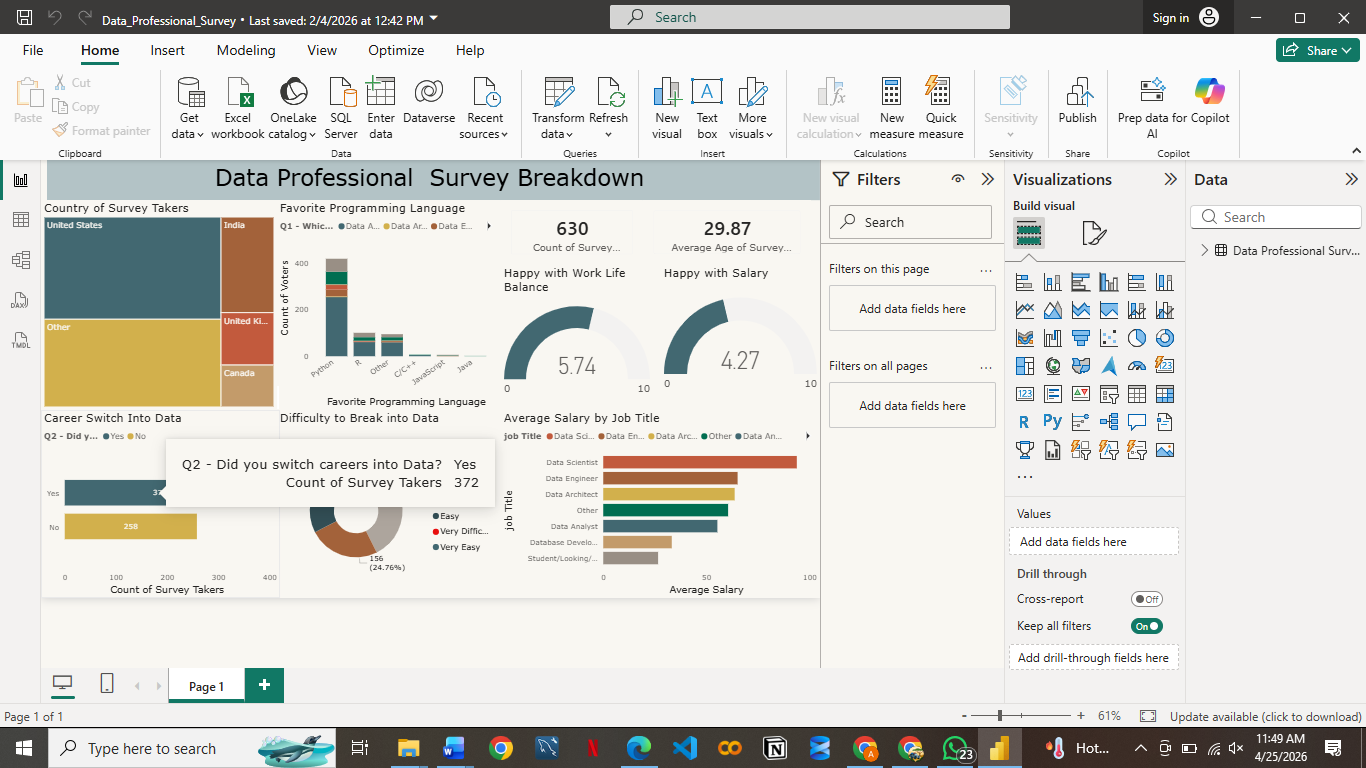

The page's visual inventory and layout, read from the dashboard file:
{"tool":"powerbi","page":{"name":"Page 1","canvas":[1280,720],"ordinal":0},"visuals":[{"type":"textbox","box":[10.1,0,1269.9,65.5],"z":0},{"type":"cardVisual","fields":{"Data":["Count(Data Professional Survey.Unique ID)"]},"box":[755.8,65.7,233.3,106.8],"z":1000},{"type":"cardVisual","fields":{"Data":["Avg(Data Professional Survey.Q10 - Current Age)"]},"box":[989.2,65.7,276,106.8],"z":2000},{"type":"barChart","title":"Average Salary by Job Title","fields":{"Category":["Data Professional Survey.Q1 - Which Title Best Fits your Current Role?.1"],"Y":["Avg(Data Professional Survey.Average Salary)"],"Series":["Data Professional Survey.Q1 - Which Title Best Fits your Current Role?.1"]},"box":[755.8,410.8,524.2,308.9],"z":3000},{"type":"columnChart","title":"Favorite Programming Language","fields":{"Category":["Data Professional Survey.Q5 - Favorite Programming Language.1"],"Y":["Count(Data Professional Survey.Unique ID)"],"Series":["Data Professional Survey.Q1 - Which Title Best Fits your Current Role?.1"]},"box":[387.8,65.7,368.1,345.1],"z":4000},{"type":"gauge","title":"Happy with Work Life Balance","fields":{"Y":["Avg(Data Professional Survey.Q6 - How Happy are you in your Current Position with the following? (Work/Life Balance))"],"MinValue":["Min(Data Professional Survey.Q6 - How Happy are you in your Current Position with the following? (Work/Life Balance))1"],"MaxValue":["Max(Data Professional Survey.Q6 - How Happy are you in your Current Position with the following? (Work/Life Balance))2"]},"box":[755.8,172.5,249.8,238.3],"z":5000},{"type":"gauge","title":"Happy with Salary","fields":{"Y":["Avg(Data Professional Survey.Q6 - How Happy are you in your Current Position with the following? (Salary))"],"MinValue":["Min(Data Professional Survey.Q6 - How Happy are you in your Current Position with the following? (Salary))"],"MaxValue":["Max(Data Professional Survey.Q6 - How Happy are you in your Current Position with the following? (Salary))"]},"box":[1018.7,172.5,261.3,238.3],"z":6000},{"type":"donutChart","title":"Difficulty to Break into Data","fields":{"Category":["Data Professional Survey.Q7 - How difficult was it for you to break into Data?"],"Y":["CountNonNull(Data Professional Survey.Q7 - How difficult was it for you to break into Data?)"]},"box":[387.8,410.8,368.1,308.9],"z":7000},{"type":"barChart","title":"Career Switch Into Data","fields":{"Category":["Data Professional Survey.Q2 - Did you switch careers into Data?"],"Y":["Count(Data Professional Survey.Unique ID)"],"Series":["Data Professional Survey.Q2 - Did you switch careers into Data?"]},"box":[0,410.8,392.7,308.9],"z":8000},{"type":"treemap","title":"Country of Survey Takers","fields":{"Group":["Data Professional Survey.Q11 - Which Country do you live in?.1"],"Values":["CountNonNull(Data Professional Survey.Q11 - Which Country do you live in?.1)"]},"box":[0,65.7,387.8,345.1],"z":9000}]}

Visuals, with their boxes on the page's 1280x720 design canvas (x1, y1, x2, y2). These are canvas units, not pixel positions in the 1366x768 screenshot, which may show the page scaled, cropped or inside an application window:
textbox: <bbox>10, 0, 1280, 66</bbox>
cardVisual - Count(Data Professional Survey.Unique ID): <bbox>756, 66, 989, 172</bbox>
cardVisual - Avg(Data Professional Survey.Q10 - Current Age): <bbox>989, 66, 1265, 172</bbox>
"Average Salary by Job Title" barChart: <bbox>756, 411, 1280, 720</bbox>
"Favorite Programming Language" columnChart: <bbox>388, 66, 756, 411</bbox>
"Happy with Work Life Balance" gauge: <bbox>756, 172, 1006, 411</bbox>
"Happy with Salary" gauge: <bbox>1019, 172, 1280, 411</bbox>
"Difficulty to Break into Data" donutChart: <bbox>388, 411, 756, 720</bbox>
"Career Switch Into Data" barChart: <bbox>0, 411, 393, 720</bbox>
"Country of Survey Takers" treemap: <bbox>0, 66, 388, 411</bbox>
